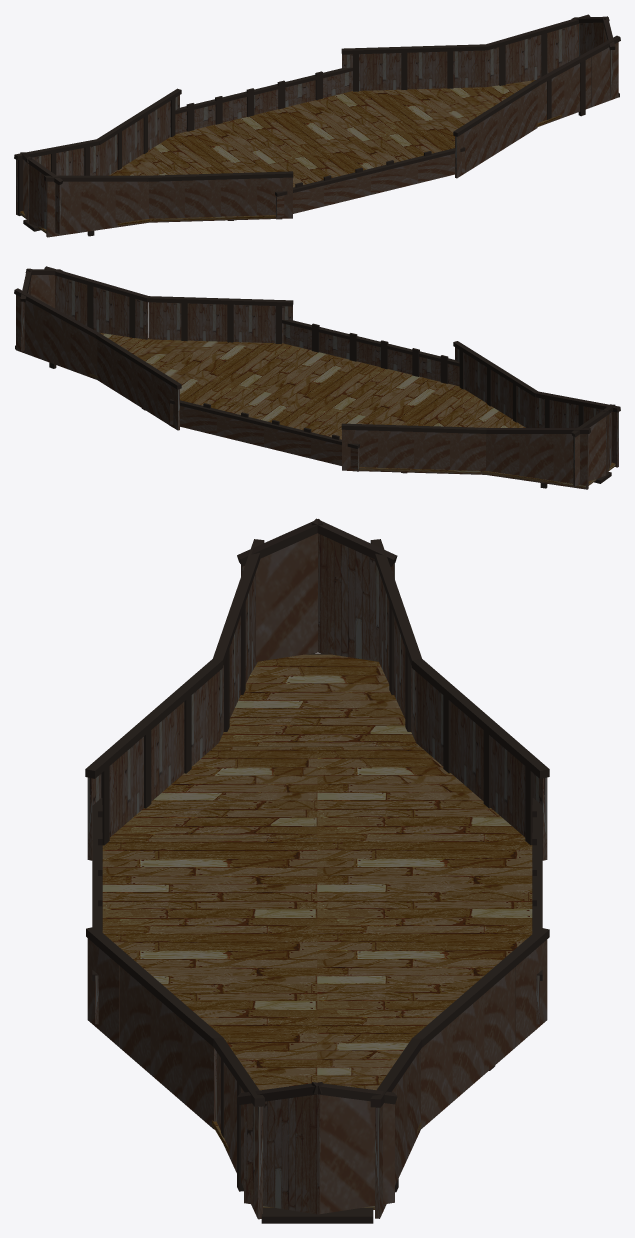
The model's file is floor4.fbx.
3 renders of one model, top to bottom at view 1: azimuth 30°, elevation 25°; view 2: azimuth 150°, elevation 25°; view 3: azimuth 270°, elevation 25°, orthographic. The views are drawn at different scales.
Parts seen in each view (by area): view 1: wallMiddle, floor4, dec, wall3, wall1, wall2, wall4; view 2: wallMiddle, floor4, dec, wall4, wall2, wall1, wall3; view 3: floor4, wallMiddle, dec, wall1, wall2, wall3, wall4, floor4.2.
Part boxes in pixels (x1,y1,x2,y2): wallMiddle: (99,50,537,222); floor4: (19,80,561,233); dec: (14,14,620,236); wall3: (28,164,148,237); wall1: (486,22,603,86); wall2: (537,27,618,126); wall4: (16,145,99,222); wallMiddle: (97,302,535,474); floor4: (89,333,615,487); dec: (14,266,620,488); wall4: (486,416,605,489); wall2: (31,275,148,339); wall1: (16,279,97,379); wall3: (535,397,618,474); floor4: (102,654,532,1209); wallMiddle: (87,672,547,1129); dec: (85,518,549,1192); wall1: (320,1050,420,1218); wall2: (216,1052,320,1219); wall3: (218,533,317,742); wall4: (318,533,416,742); floor4.2: (261,653,373,1223).
Size of the model in its own units: 12397 by 4279 by 1502.
